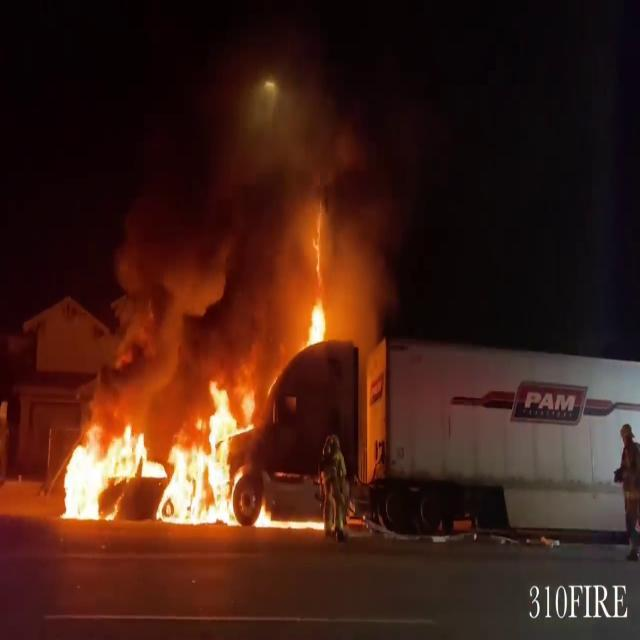Fire: (53, 377, 274, 531)
Smoke: (103, 75, 410, 352)
